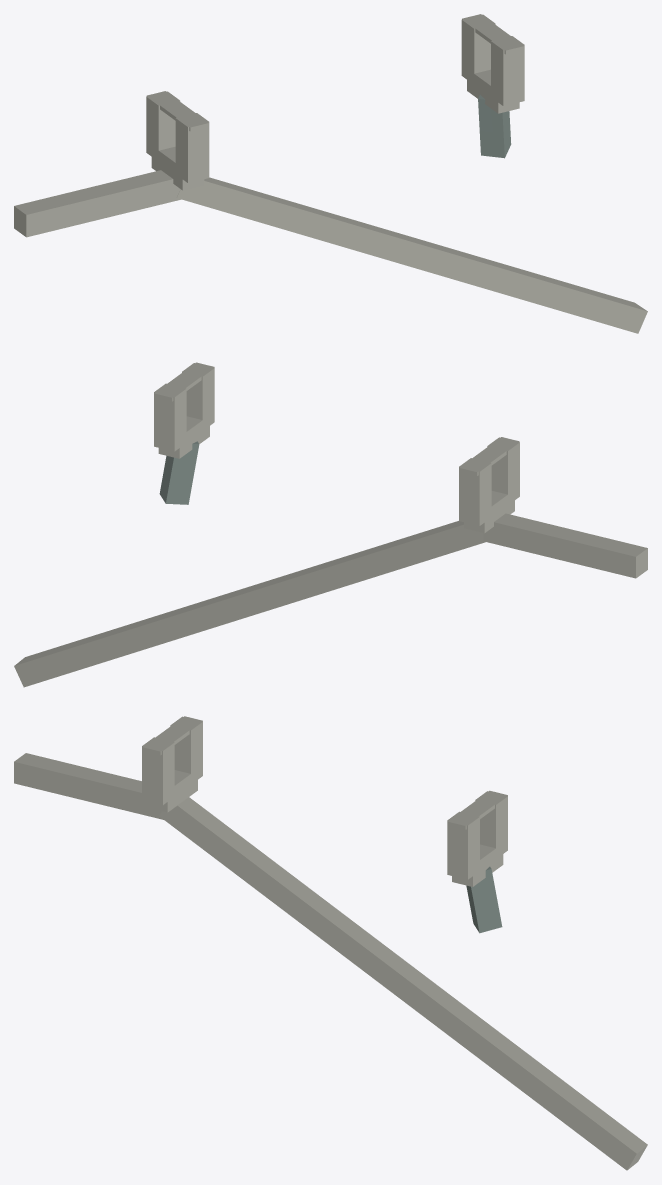
The model's file is SM_CatenariaLosa_v2_Colgando_LOD1.fbx.
3 renders of one model, top to bottom at view 1: azimuth 30°, elevation 25°; view 2: azimuth 150°, elevation 25°; view 3: azimuth 330°, elevation 25°, orthographic. The views are drawn at different scales.
Visible parts, largest first — view 1: SM_catenaria_losa_v2_LOD1; view 2: SM_catenaria_losa_v2_LOD1; view 3: SM_catenaria_losa_v2_LOD1.
Part boxes in pixels (<box>): SM_catenaria_losa_v2_LOD1: <box>14,14,647,333</box>; SM_catenaria_losa_v2_LOD1: <box>14,362,647,687</box>; SM_catenaria_losa_v2_LOD1: <box>14,716,647,1170</box>.
Size of the model in its own units: 10.03 by 5.17 by 1.2.
